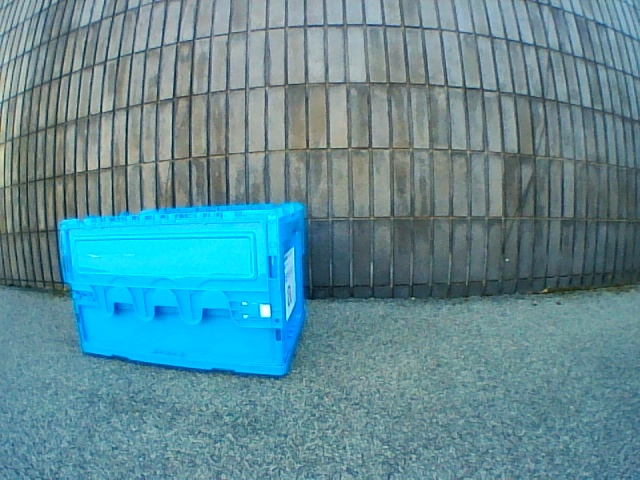blue_box: (58, 202, 306, 376)
tag: (286, 256, 293, 304)
